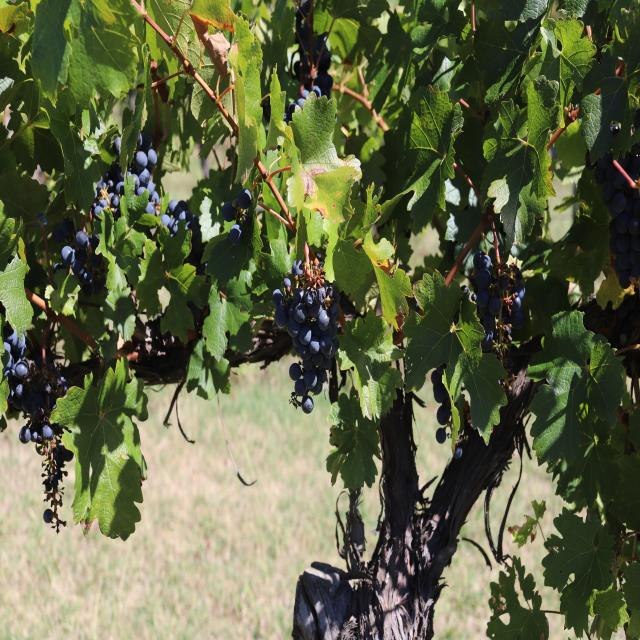grapes: (2, 322, 73, 531), (272, 244, 340, 413), (586, 142, 640, 289), (471, 251, 525, 352), (53, 218, 107, 296), (222, 188, 252, 246), (431, 364, 451, 443)
